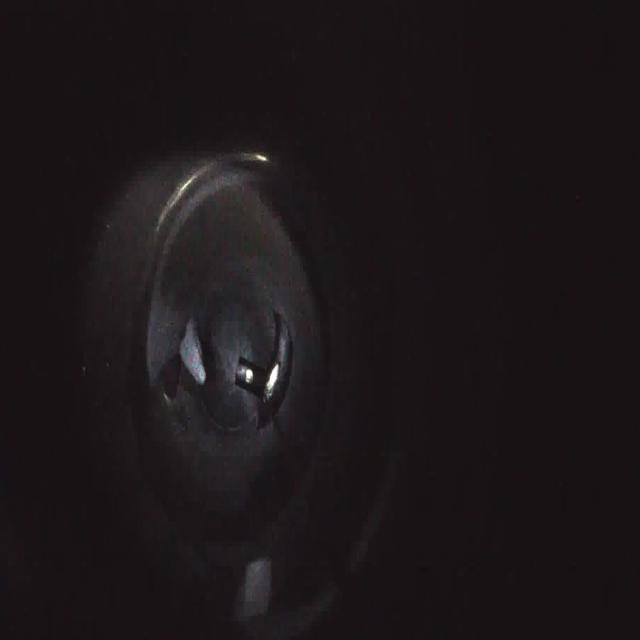impurity: (175, 308, 212, 388)
